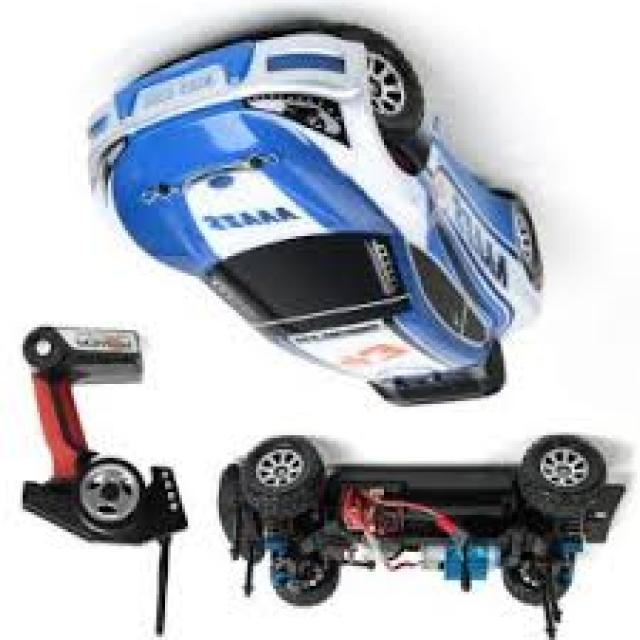Car: (82, 26, 544, 410), (216, 435, 626, 640)
